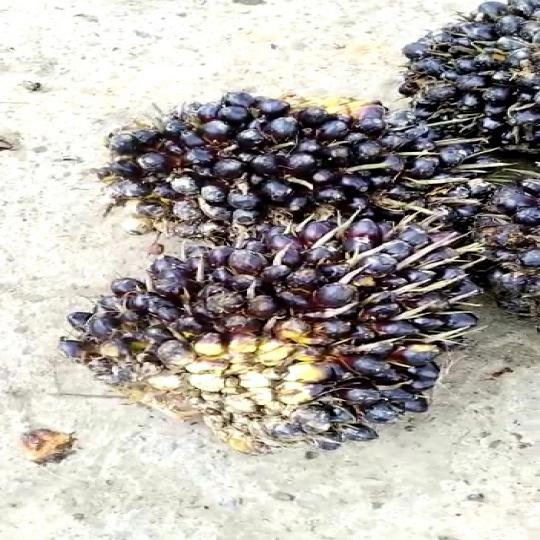mentah: (107, 221, 480, 486), (93, 76, 451, 239), (390, 2, 540, 175)
